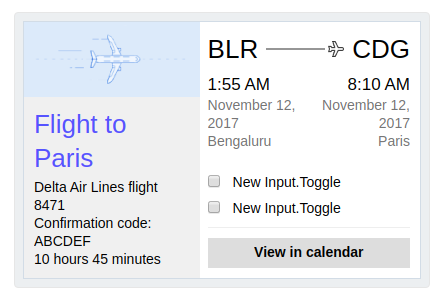checkbox: (208, 172, 346, 192), (207, 199, 345, 217)
textbox: (205, 75, 302, 148), (326, 76, 416, 149), (32, 107, 135, 167), (38, 251, 168, 271), (34, 180, 169, 195), (35, 219, 156, 234), (350, 36, 413, 63), (204, 37, 261, 66), (33, 234, 104, 255), (34, 200, 72, 215)
